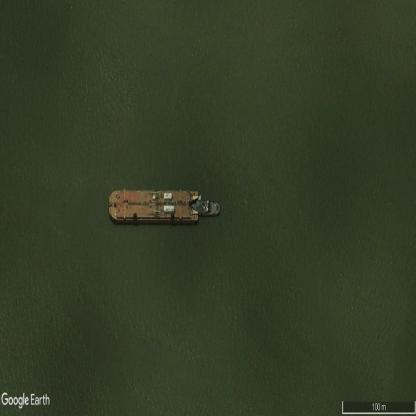ship: (108, 188, 220, 220)
